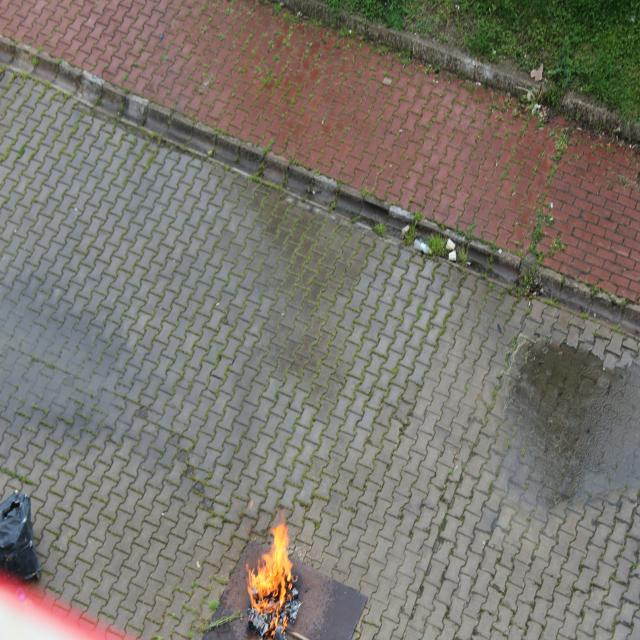fire: (250, 508, 304, 629)
